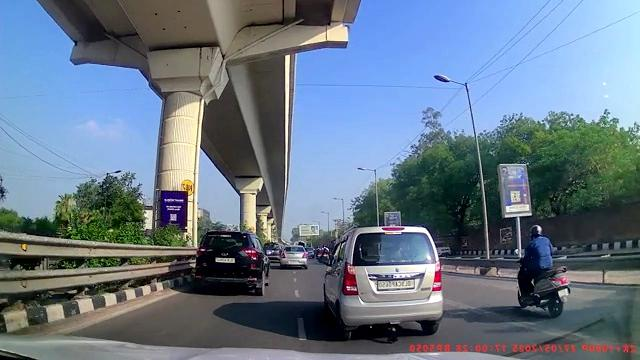motorcycle_with_helmet: (515, 223, 571, 318)
